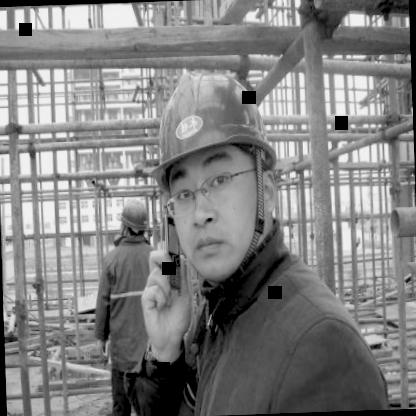helmet: (140, 49, 293, 290), (116, 196, 154, 242)
